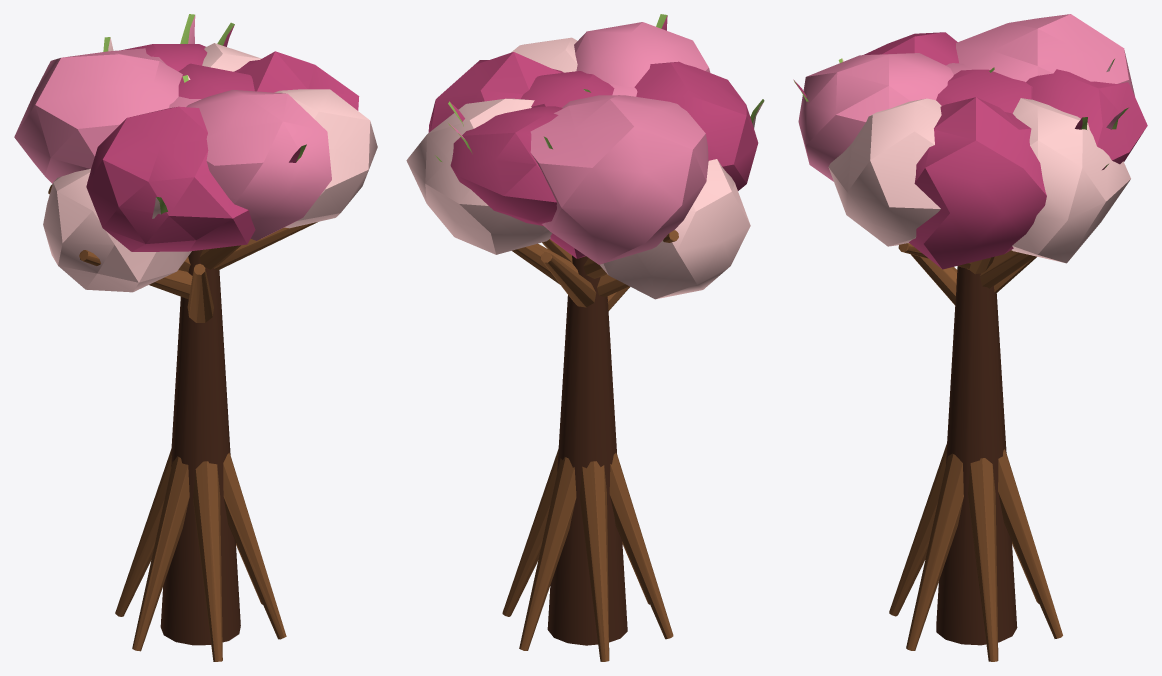
File: tree_sakura_lod2.glb
The picture shows the model from 3 angles, left to right: view 1: azimuth 30°, elevation 25°; view 2: azimuth 150°, elevation 25°; view 3: azimuth 270°, elevation 25°; orthographic projection.
Visible parts, largest first — view 1: Flared sculpted trunk.002; view 2: Flared sculpted trunk.002; view 3: Flared sculpted trunk.002.
Part boxes in pixels (x1,y1,x2,y2): Flared sculpted trunk.002: (14, 14, 377, 661); Flared sculpted trunk.002: (406, 14, 764, 661); Flared sculpted trunk.002: (793, 14, 1147, 661).
Bounding box in the file's own units: 3.02 × 5.51 × 3.08.
